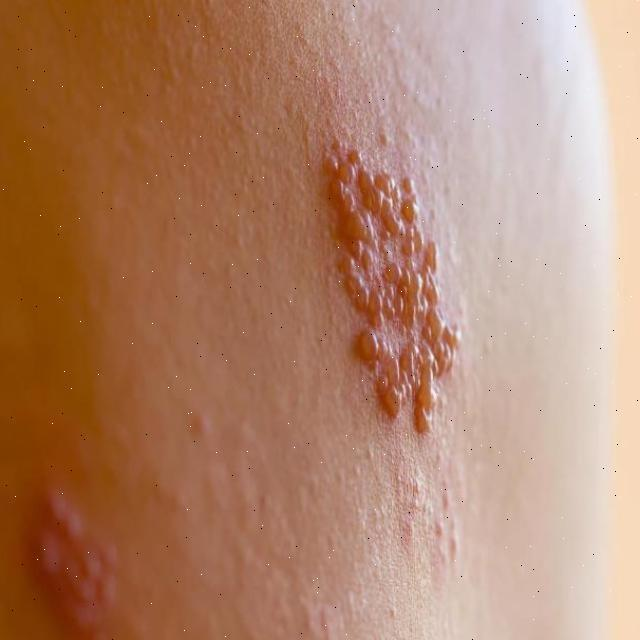Shingles: (320, 131, 465, 429), (26, 480, 118, 638)
